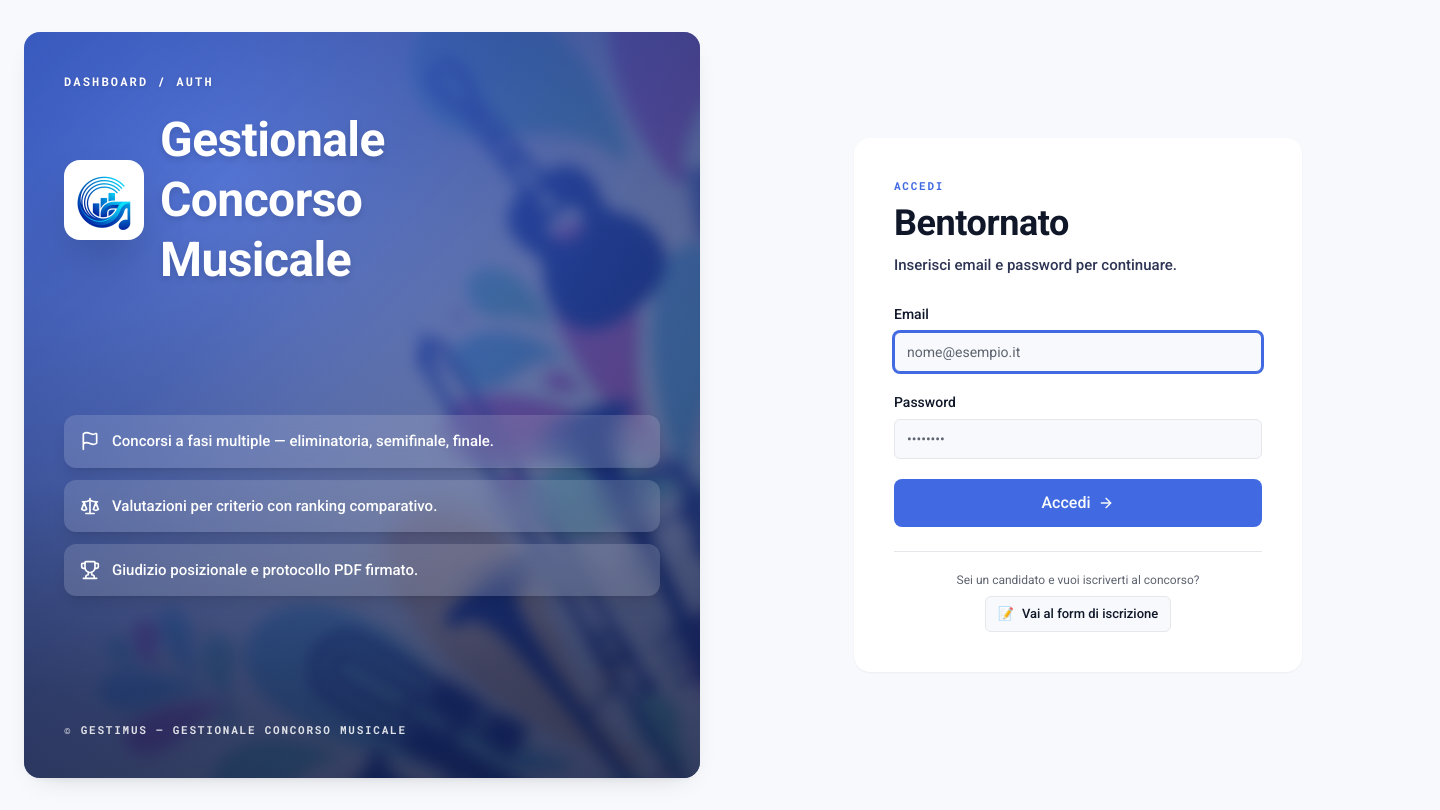
Test: Login page › advances to the 2FA / TOTP step when login returns an MFA challenge
In the field labelled "Email": (1078, 352) [894,332,1262,372], type "admin@esempio.it"
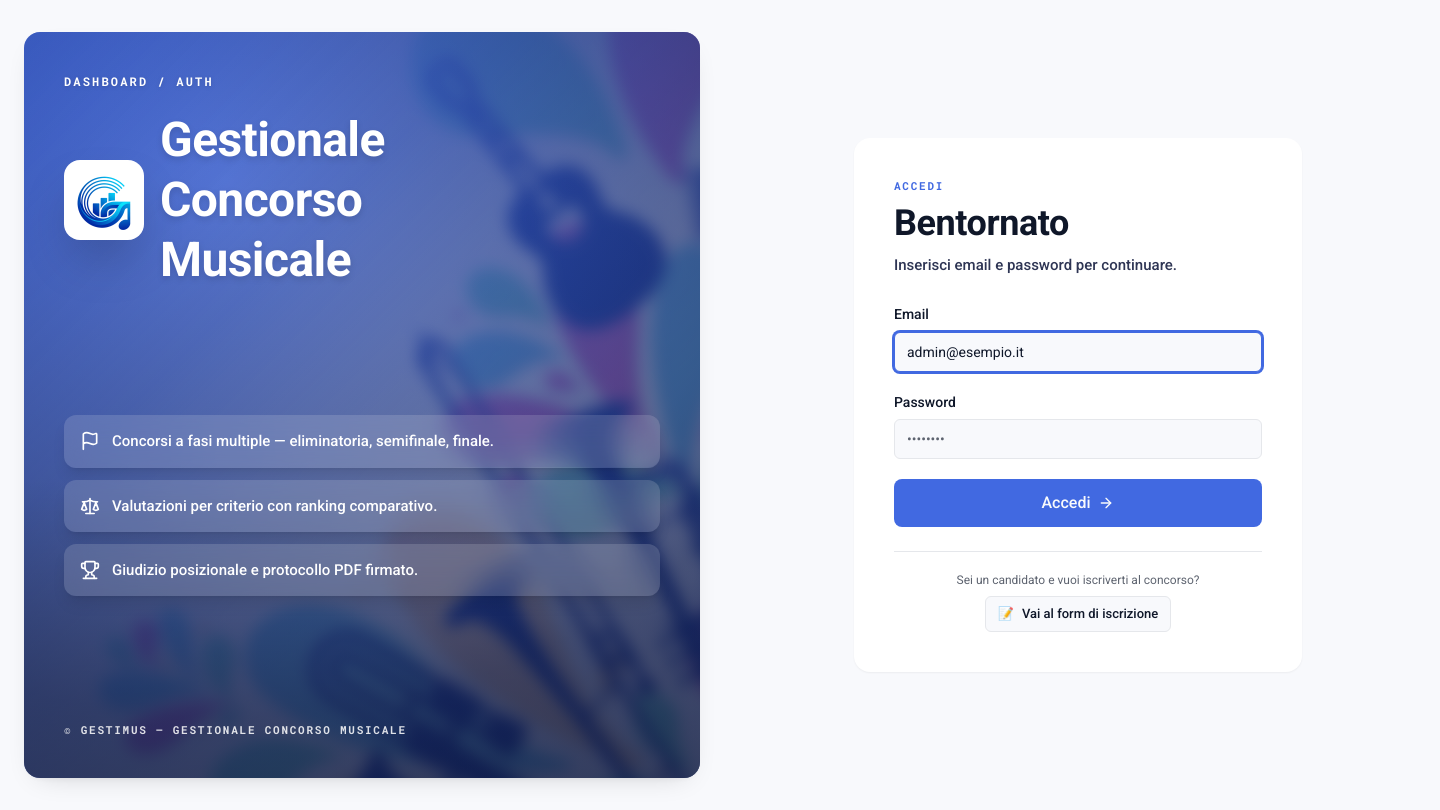
In the password field labelled "Password": (1078, 439) [894,419,1262,459], type "segreta123"
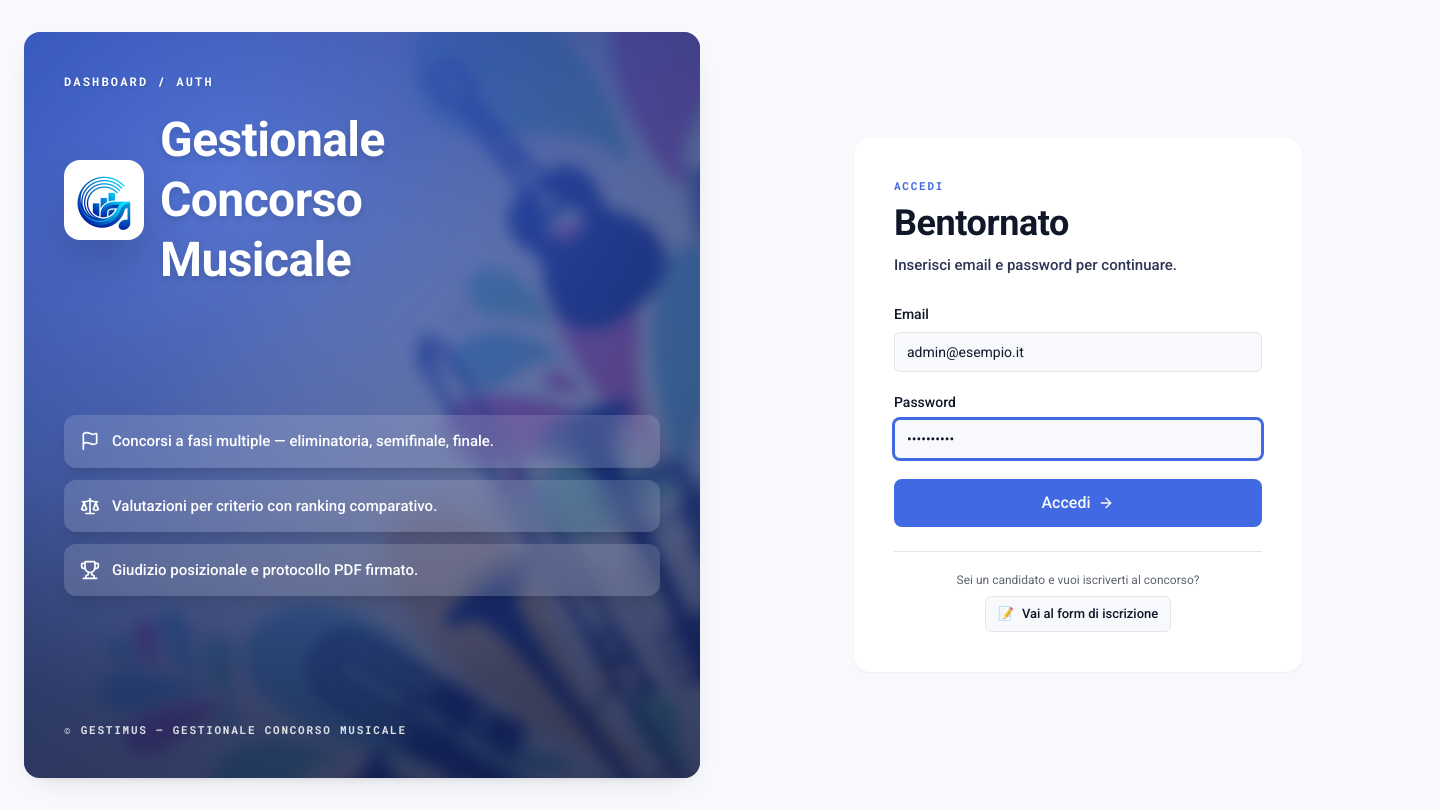
Click the button "Accedi": click(1078, 503) [894,479,1262,527]
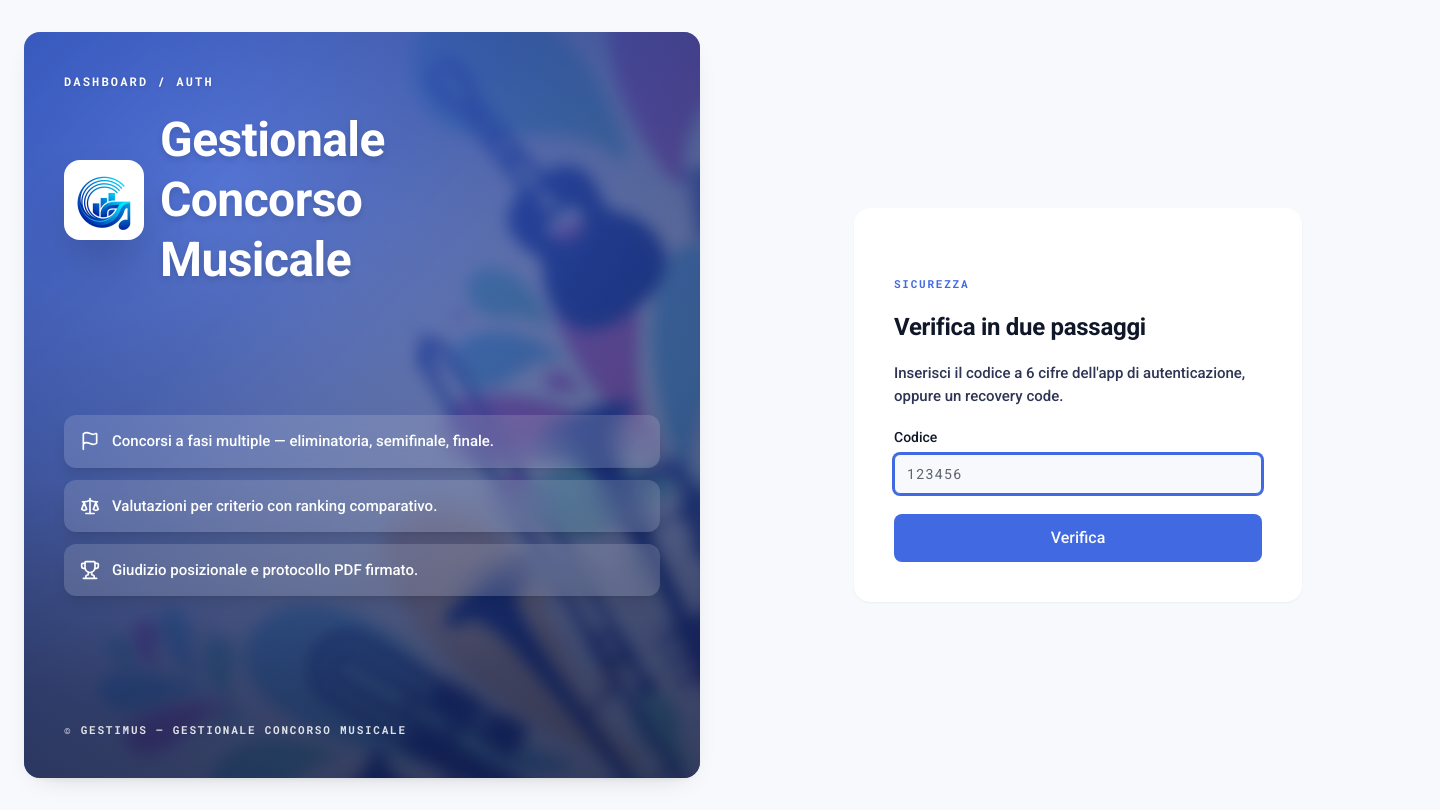
Check: the heading "Verifica in due passaggi" is shown, box [894,313,1146,341]
Check: the field labelled "Codice" is shown, box [894,454,1262,494]
Check: the text labelled "password" is gone
